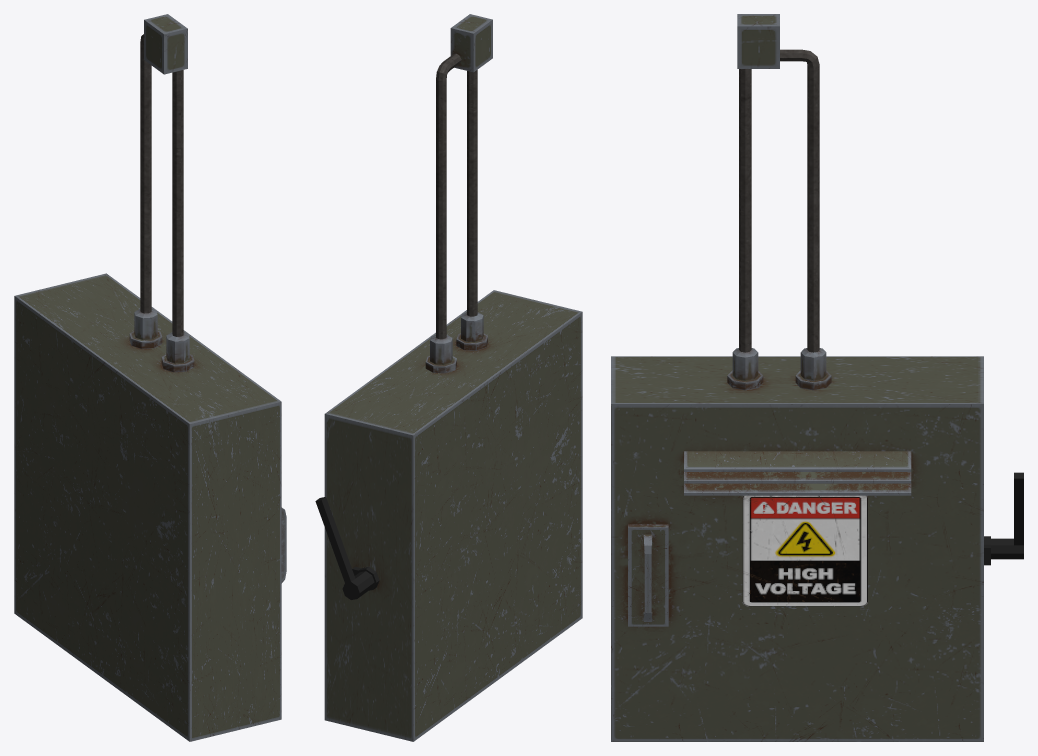
Rendered from electric_box_appliedScale.fbx.
3 renders of one model, left to right at view 1: azimuth 30°, elevation 25°; view 2: azimuth 150°, elevation 25°; view 3: azimuth 270°, elevation 25°, orthographic. The views are drawn at different scales.
Visible parts, largest first — view 1: electric_box.001, wire_2.001, wire_1.001, small_box.001, wire_base_1.001, wire_base_2.001; view 2: electric_box.001, wire_1.001, wire_2.001, small_box.001, lever.001, wire_base_2.001, wire_base_1.001; view 3: electric_box.001, vents.001, wire_1.001, handle.001, wire_2.001, small_box.001, lever.001, wire_base_1.001, wire_base_2.001.
Part boxes in pixels (box(x1,y1,x2,y2)): electric_box.001: box(14, 273, 281, 741); wire_2.001: box(172, 70, 183, 336); wire_1.001: box(140, 34, 151, 313); small_box.001: box(144, 14, 187, 74); wire_base_1.001: box(129, 309, 162, 348); wire_base_2.001: box(161, 332, 194, 372); electric_box.001: box(324, 290, 582, 741); wire_1.001: box(436, 53, 461, 339); wire_2.001: box(467, 70, 477, 316); small_box.001: box(450, 14, 492, 72); lever.001: box(315, 497, 379, 599); wire_base_2.001: box(456, 312, 487, 350); wire_base_1.001: box(425, 335, 456, 373); electric_box.001: box(611, 356, 983, 741); vents.001: box(684, 451, 911, 495); wire_1.001: box(780, 49, 819, 352); handle.001: box(628, 524, 668, 626); wire_2.001: box(739, 69, 751, 352); small_box.001: box(737, 14, 779, 68); lever.001: box(984, 472, 1023, 565); wire_base_1.001: box(795, 348, 831, 390); wire_base_2.001: box(727, 348, 763, 390).
Bounding box in the file's own units: 74.02 × 413 × 221.
Materials: 3 (3 with a texture image).
